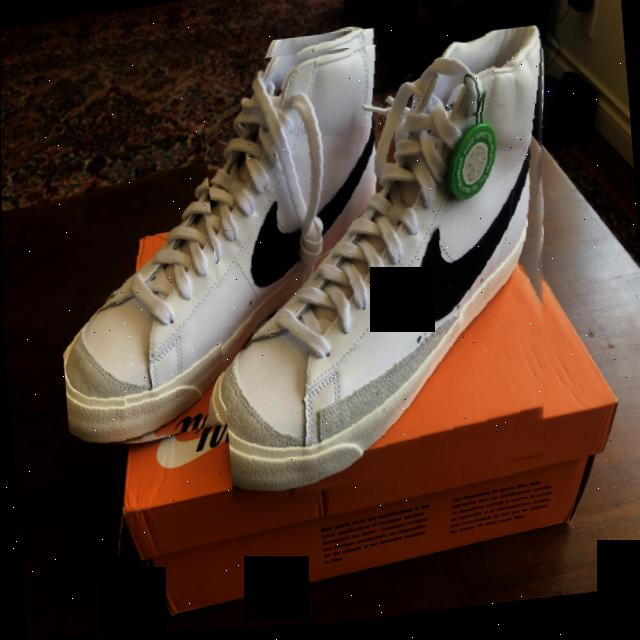shoe: (198, 29, 576, 509), (40, 29, 409, 455)
